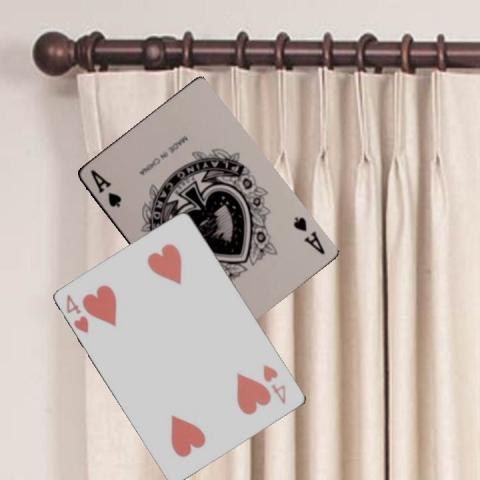4h: (260, 362, 288, 406), (63, 291, 91, 335)
As: (289, 213, 326, 256), (86, 166, 122, 209)
